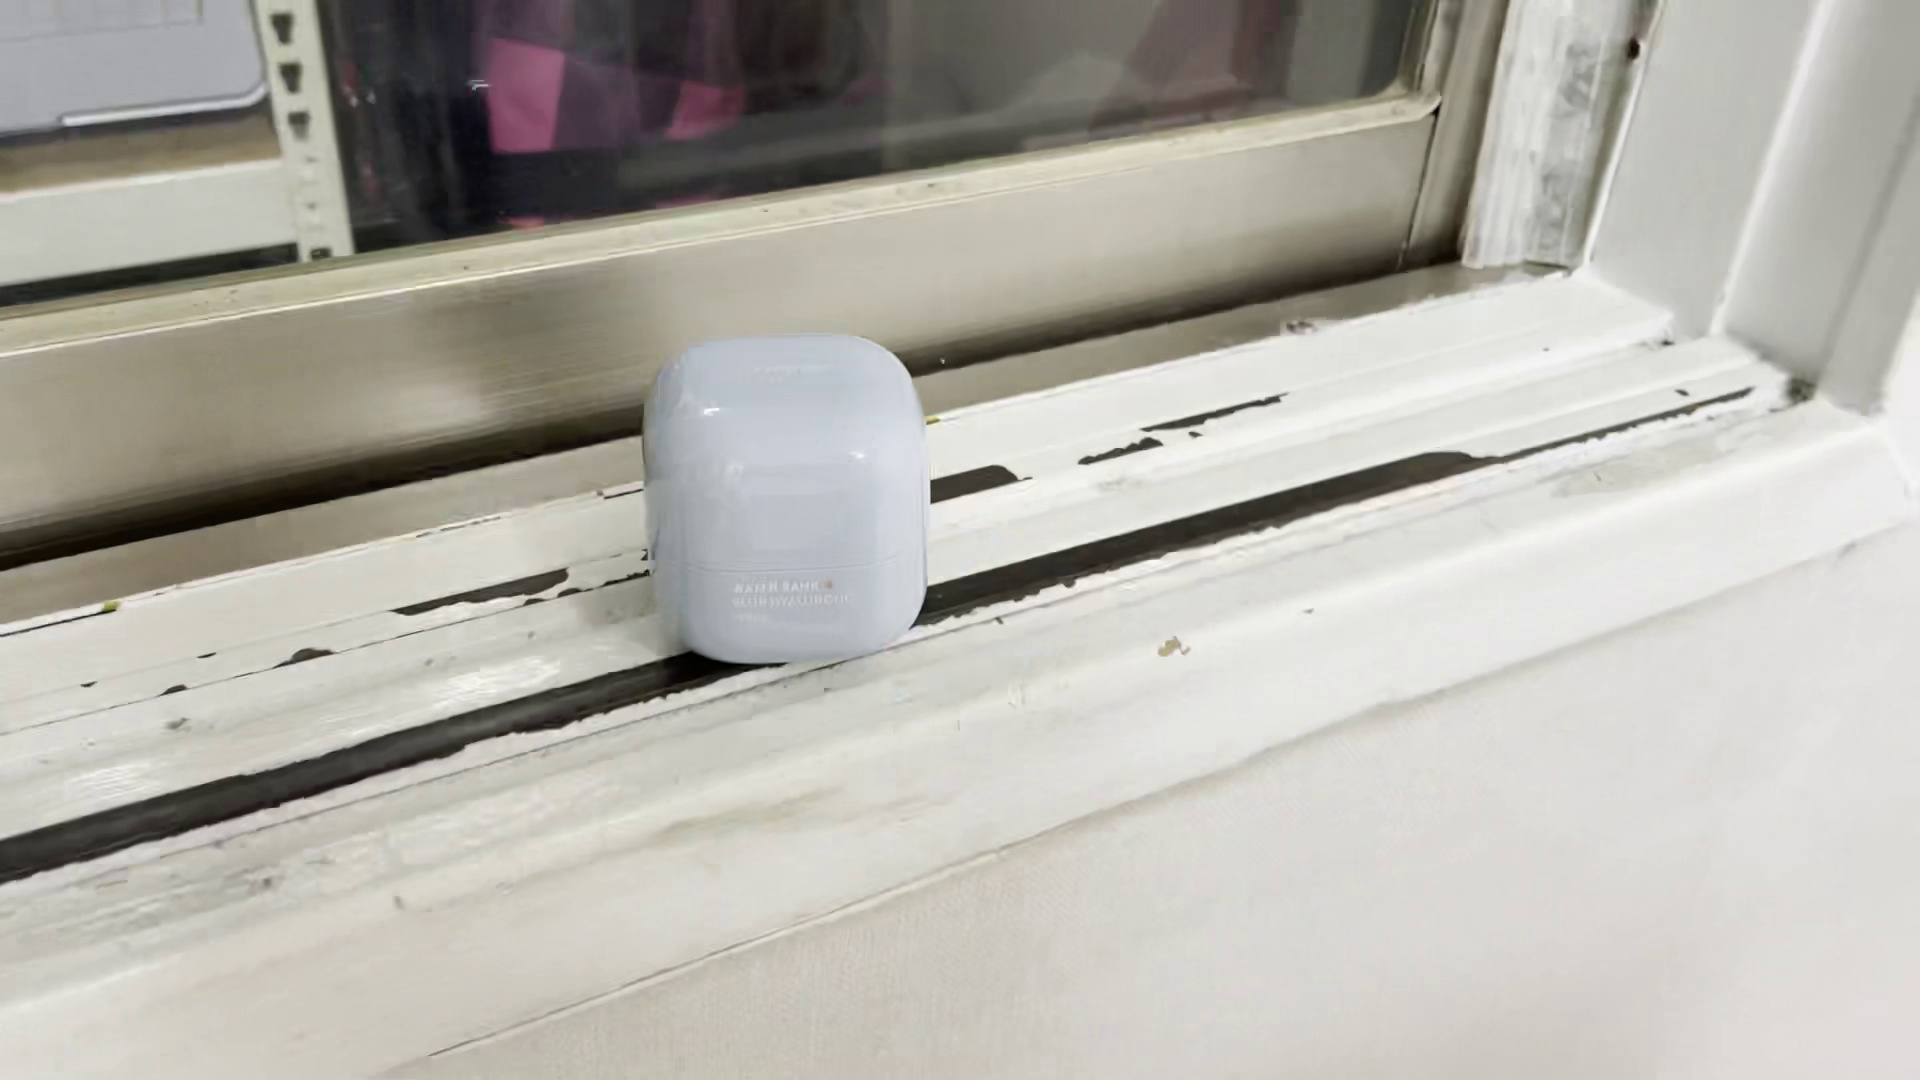cream: (644, 335, 932, 666)
